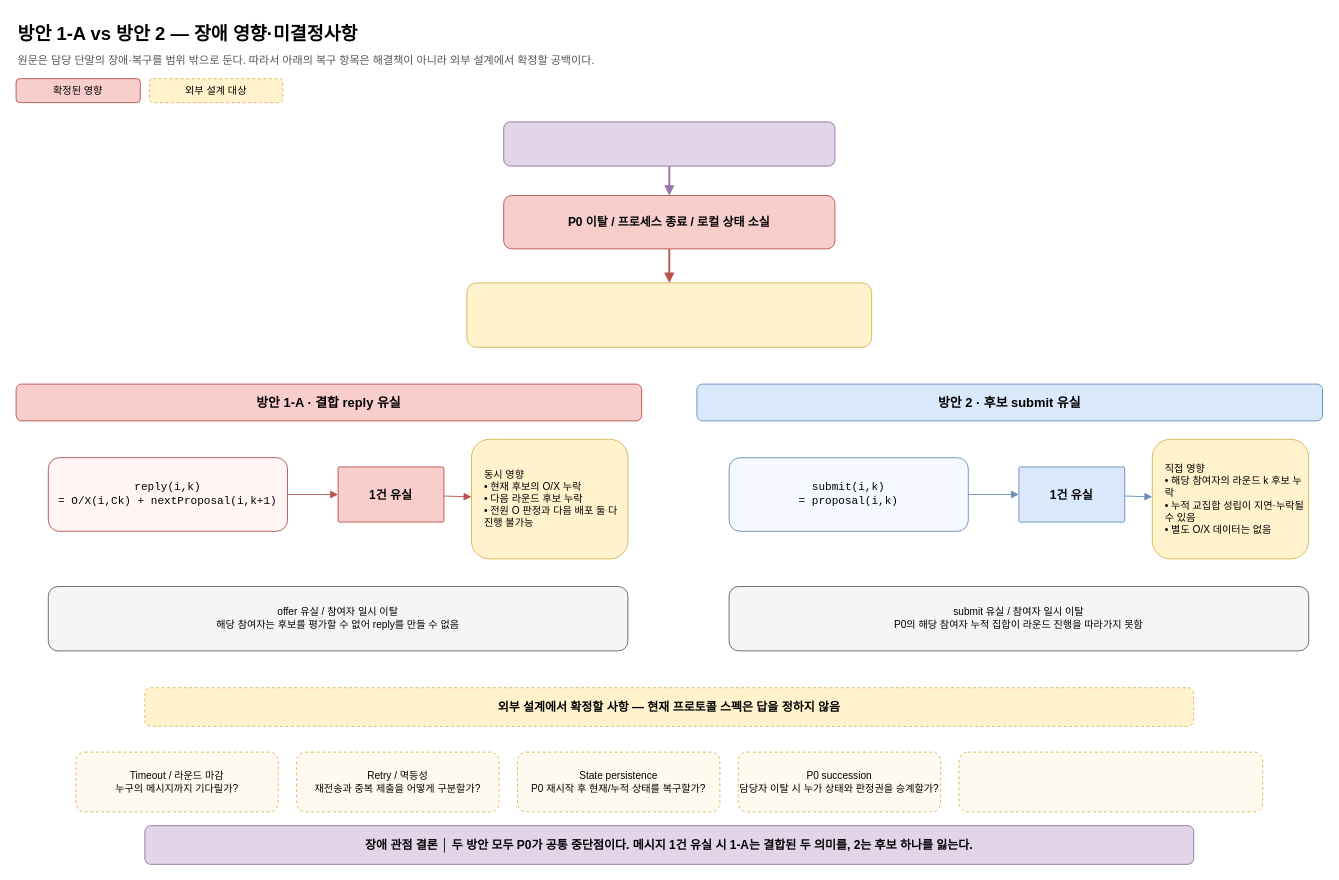
The diagram is 1339 pixels wide and 880 high, and some of its shapes have lost their labels. The box of each missing label's shape, as (x1, y1, x2, y2) in pixels:
Final-result acknowledgement 종료 통지 유실 시 전원의 결과를 어떻게 일치시킬가?: (958, 751, 1263, 812)
공통 장애 집중점 · P0 담당자: (503, 121, 835, 166)
라운드 제어·성립 판정·종료 선언 중단 두 방안 모두 단일 조정·판정 주체에 의존: (466, 282, 872, 347)
